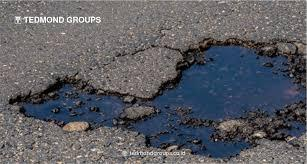Pothole: (5, 21, 298, 161)
